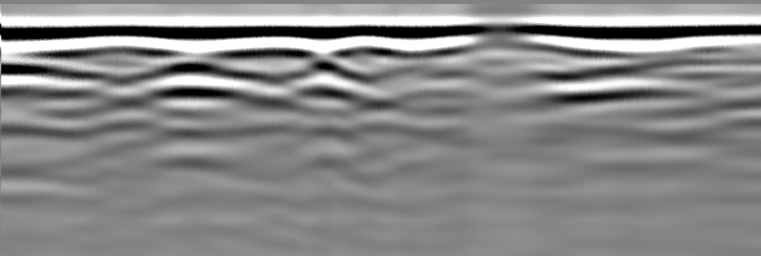pipe: (463, 21, 542, 47)
steel: (143, 52, 236, 77), (284, 50, 360, 79)
